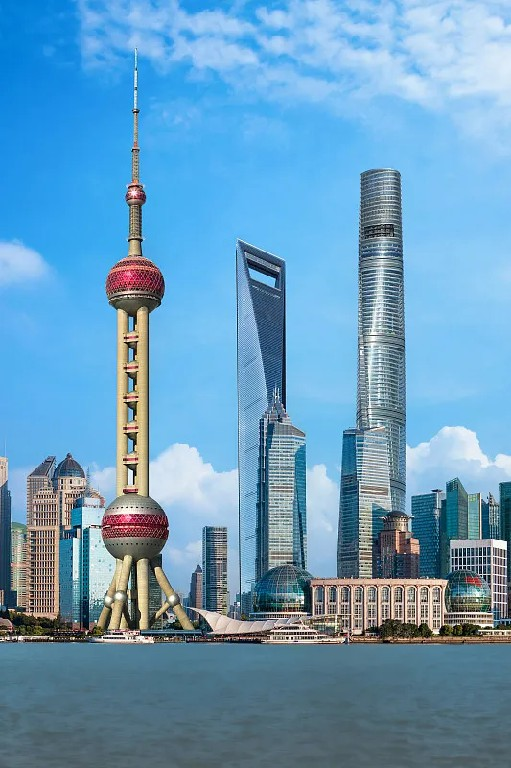Oriental: (97, 49, 195, 627)
